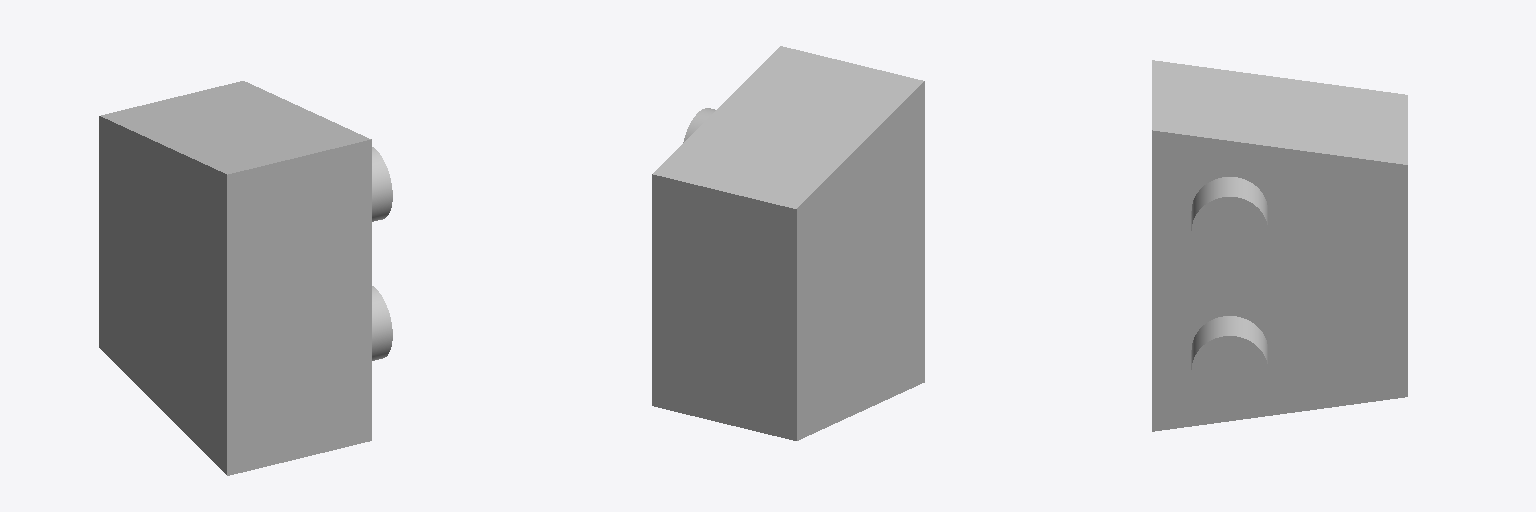
The model's file is robot_head.obj.
3 views of the same model, side by side, from view 1: azimuth 30°, elevation 25°; view 2: azimuth 150°, elevation 25°; view 3: azimuth 270°, elevation 25° (orthographic).
Parts seen in each view (by area): view 1: Cube, Cylinder, Cylinder.003; view 2: Cube; view 3: Cube, Cylinder, Cylinder.003.
Part boxes in pixels (x1,y1,x2,y2): Cube: (99,81,371,475); Cylinder: (372,286,392,360); Cylinder.003: (372,147,392,221); Cube: (652,46,924,440); Cube: (1152,60,1407,431); Cylinder: (1191,316,1267,405); Cylinder.003: (1191,177,1267,265).
Size of the model in its own units: 0.167 by 0.26 by 0.2.